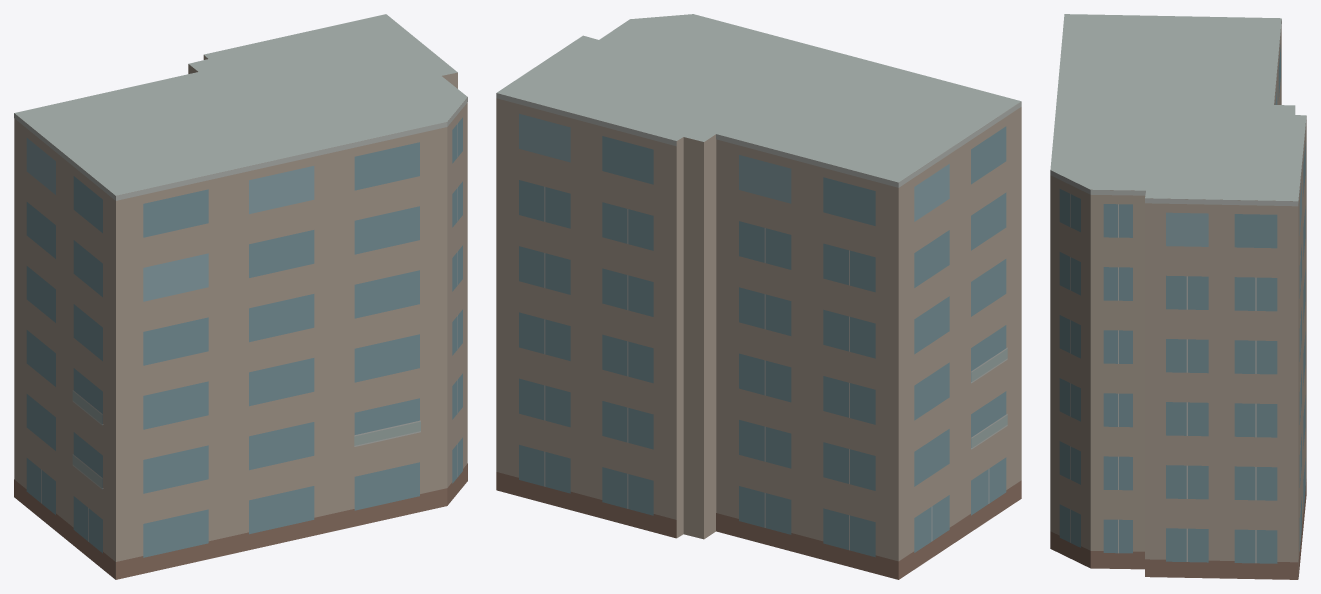
The model's file is survey-upis-32565657.glb.
The picture shows the model from 3 angles, left to right: view 1: azimuth 30°, elevation 25°; view 2: azimuth 150°, elevation 25°; view 3: azimuth 270°, elevation 25°; orthographic projection. The views are drawn at different scales.
Parts seen in each view (by area): view 1: survey-upis-32565657.tmp; view 2: survey-upis-32565657.tmp; view 3: survey-upis-32565657.tmp.
Part boxes in pixels (left/top/right/bottom): survey-upis-32565657.tmp: left=14, top=14, right=467, bottom=579; survey-upis-32565657.tmp: left=496, top=14, right=1021, bottom=579; survey-upis-32565657.tmp: left=1050, top=14, right=1306, bottom=579.
Size of the model in its own units: 19.41 by 18.3 by 11.23.
